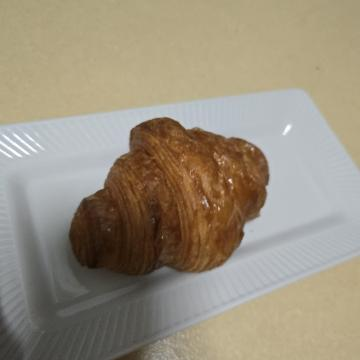croissant: (109, 83, 289, 294)
